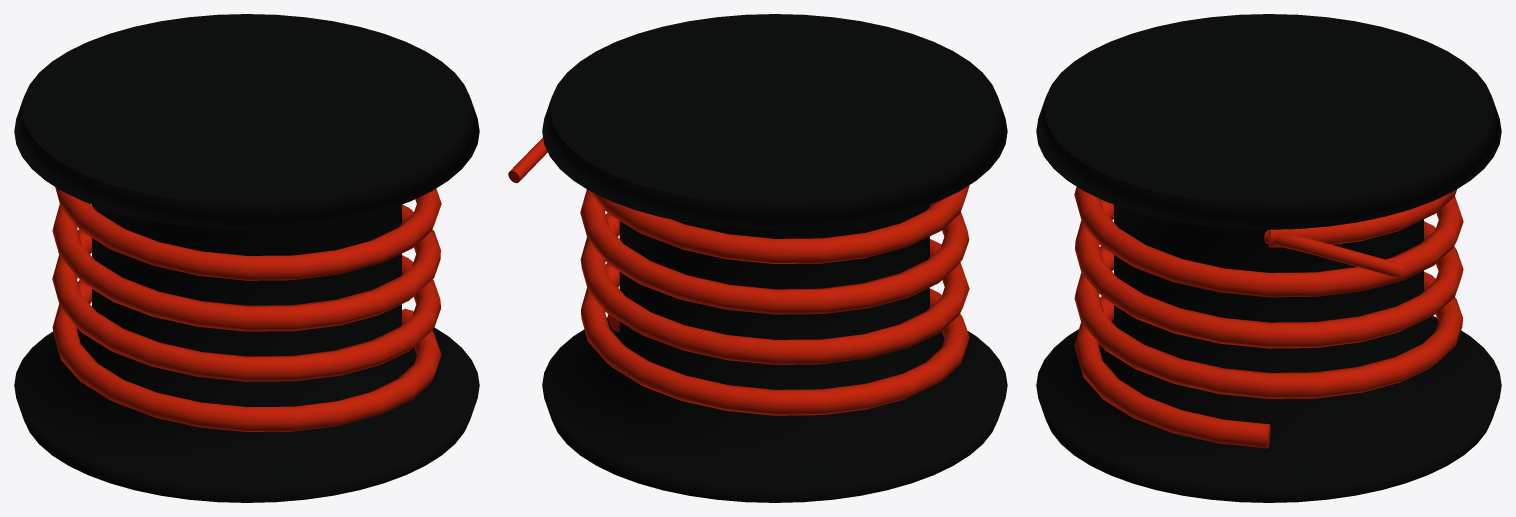
File: TrimmerLine.gltf
3 renders of one model, left to right at view 1: azimuth 30°, elevation 25°; view 2: azimuth 150°, elevation 25°; view 3: azimuth 270°, elevation 25°, orthographic.
Parts seen in each view (by area): view 1: TrimmerLine__Body; view 2: TrimmerLine__Body; view 3: TrimmerLine__Body.
Boxes of the visible parts, x1,y1,x2,y2 form: TrimmerLine__Body: (14,14,479,502); TrimmerLine__Body: (508,14,1007,502); TrimmerLine__Body: (1036,14,1501,502).
Size of the model in its own units: 0.168 by 0.119 by 0.168.
1 material, 1 textured.
